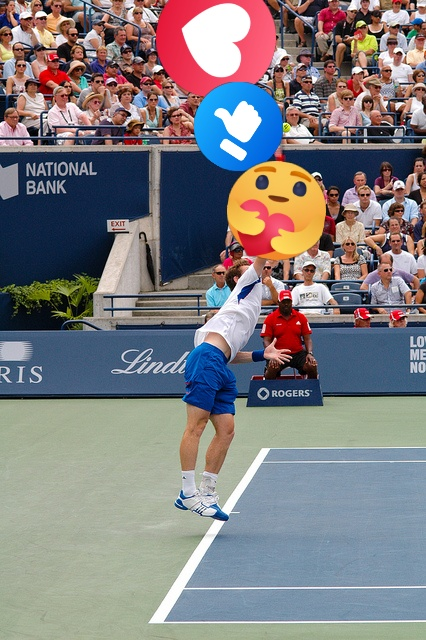care: (227, 161, 326, 260)
like: (194, 82, 283, 171)
love: (156, 0, 276, 98)
